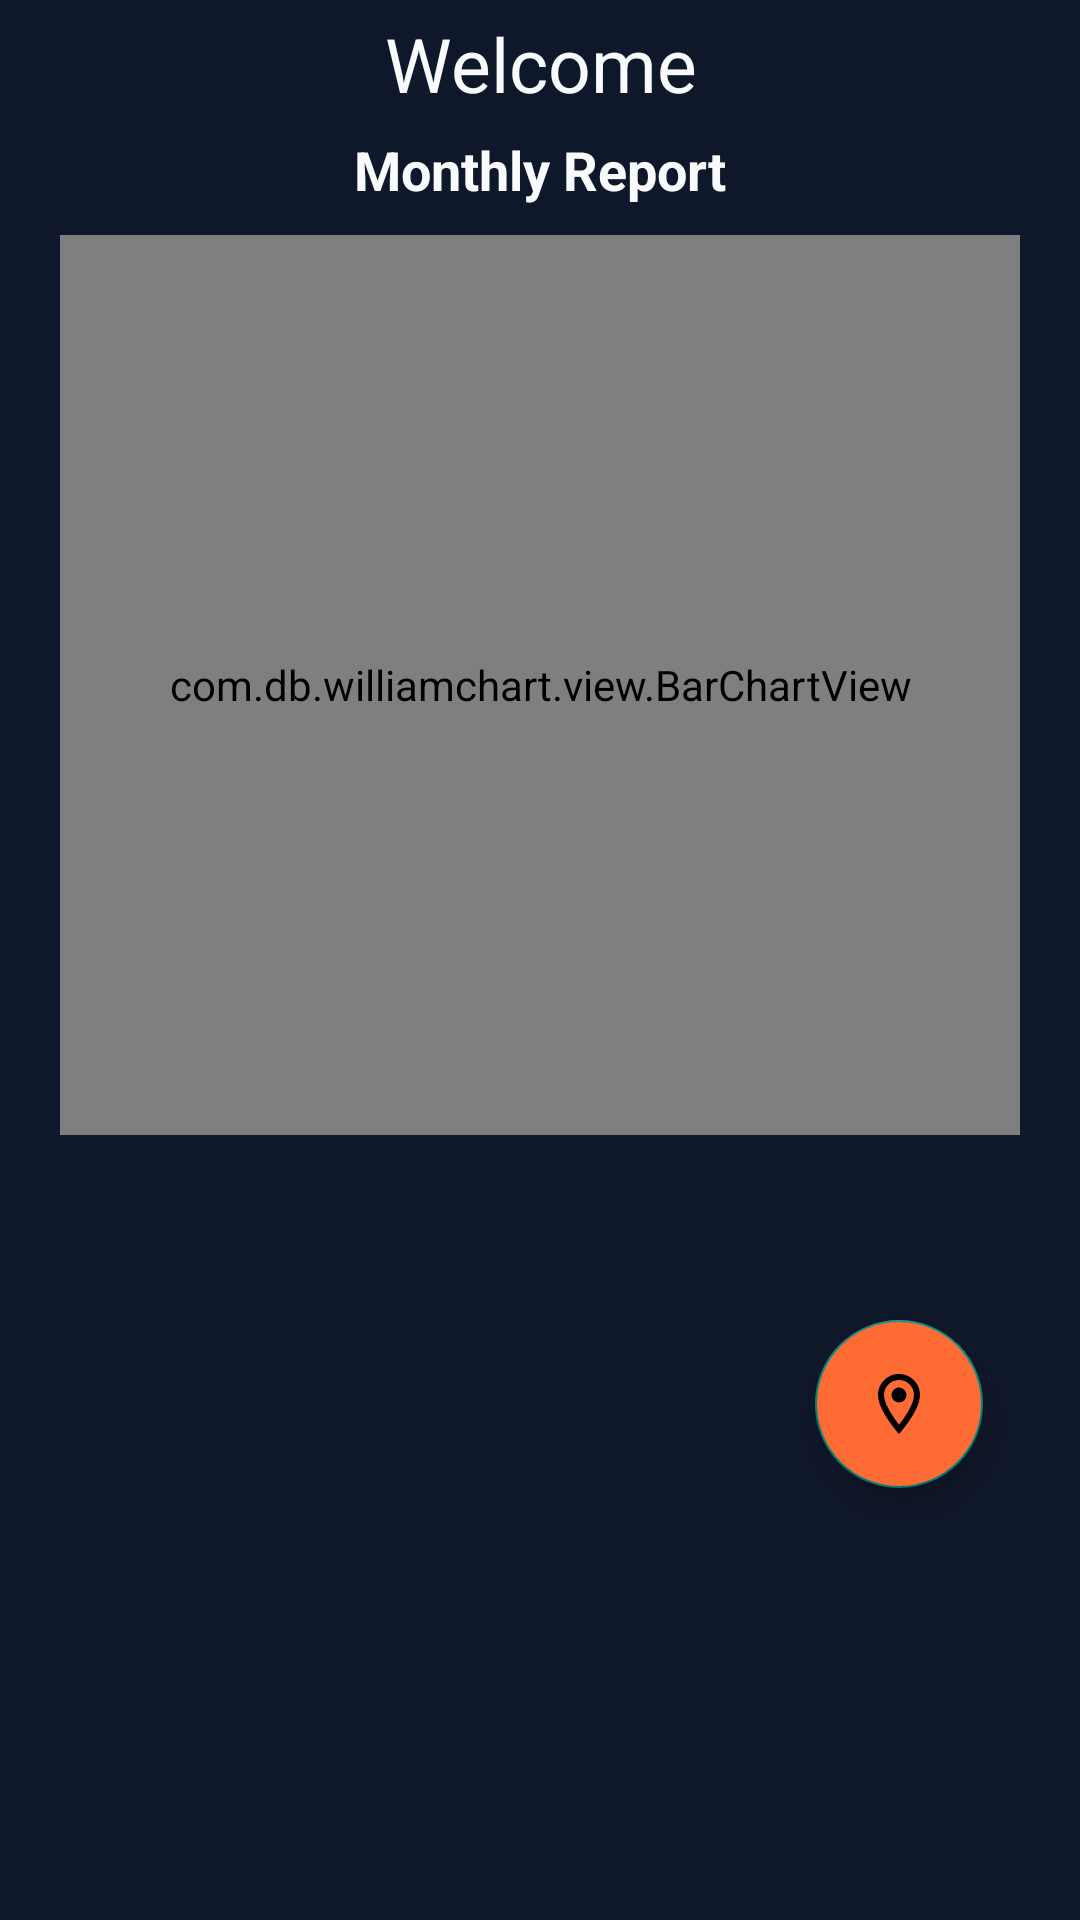

Where icons sit on this 1080px x 1920px app screen, as (x1=x1, y1=y1, x2=x2, y2=y2):
Location: (x1=815, y1=1320, x2=983, y2=1488)
